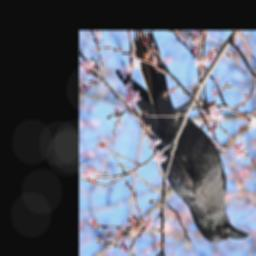Crow: (115, 34, 250, 245)
